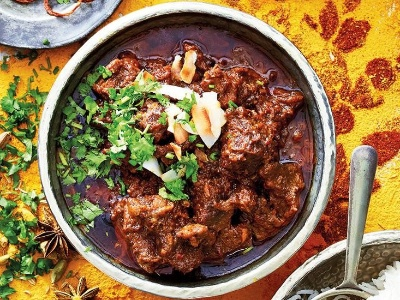rendang: (85, 59, 290, 261)
